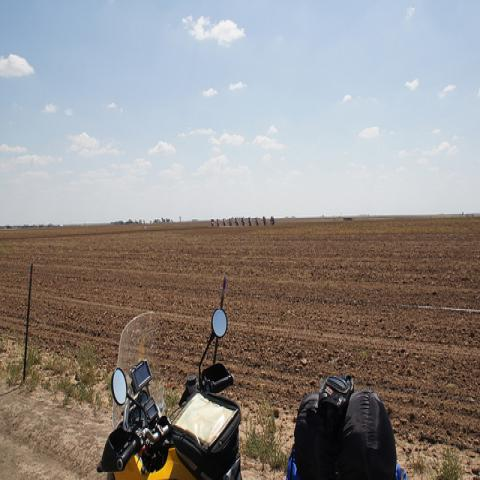motorcycle: (95, 306, 408, 479)
